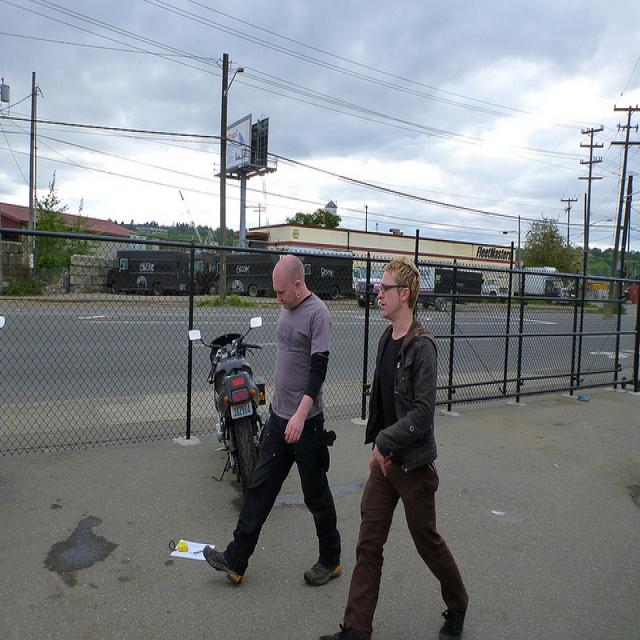motor: (188, 316, 265, 499)
